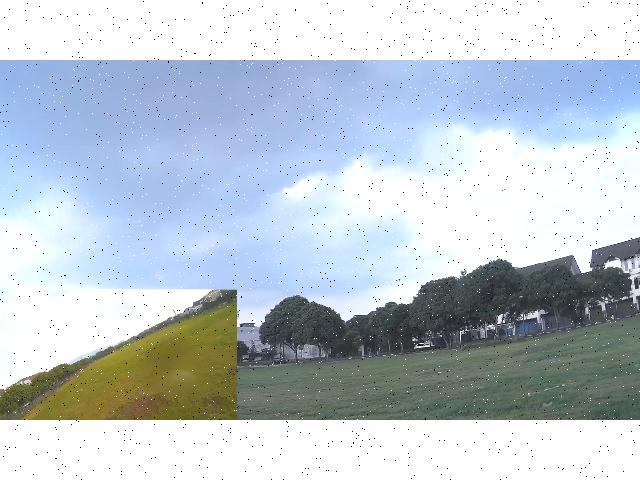Anti-Drone: (385, 277, 413, 293)
